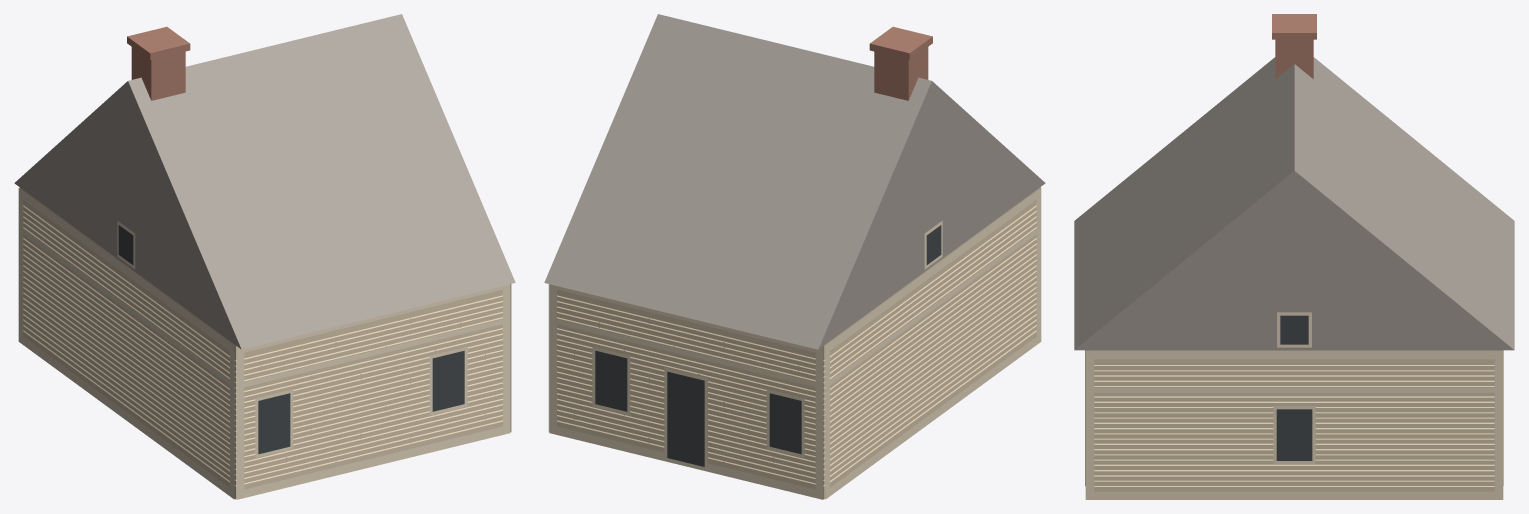
The model's file is recon_1835_west_005__inferred_1835.glb.
The picture shows the model from 3 angles, left to right: view 1: azimuth 30°, elevation 25°; view 2: azimuth 150°, elevation 25°; view 3: azimuth 270°, elevation 25°; orthographic projection. The views are drawn at different scales.
Visible parts, largest first — view 1: recon_1835_west_005__inferred_1835; view 2: recon_1835_west_005__inferred_1835; view 3: recon_1835_west_005__inferred_1835.
Part boxes in pixels (left/top/right/bottom): recon_1835_west_005__inferred_1835: left=14, top=14, right=515, bottom=499; recon_1835_west_005__inferred_1835: left=544, top=14, right=1045, bottom=499; recon_1835_west_005__inferred_1835: left=1074, top=14, right=1514, bottom=499.
Bounding box in the file's own units: 6.8 × 8.72 × 9.64.
